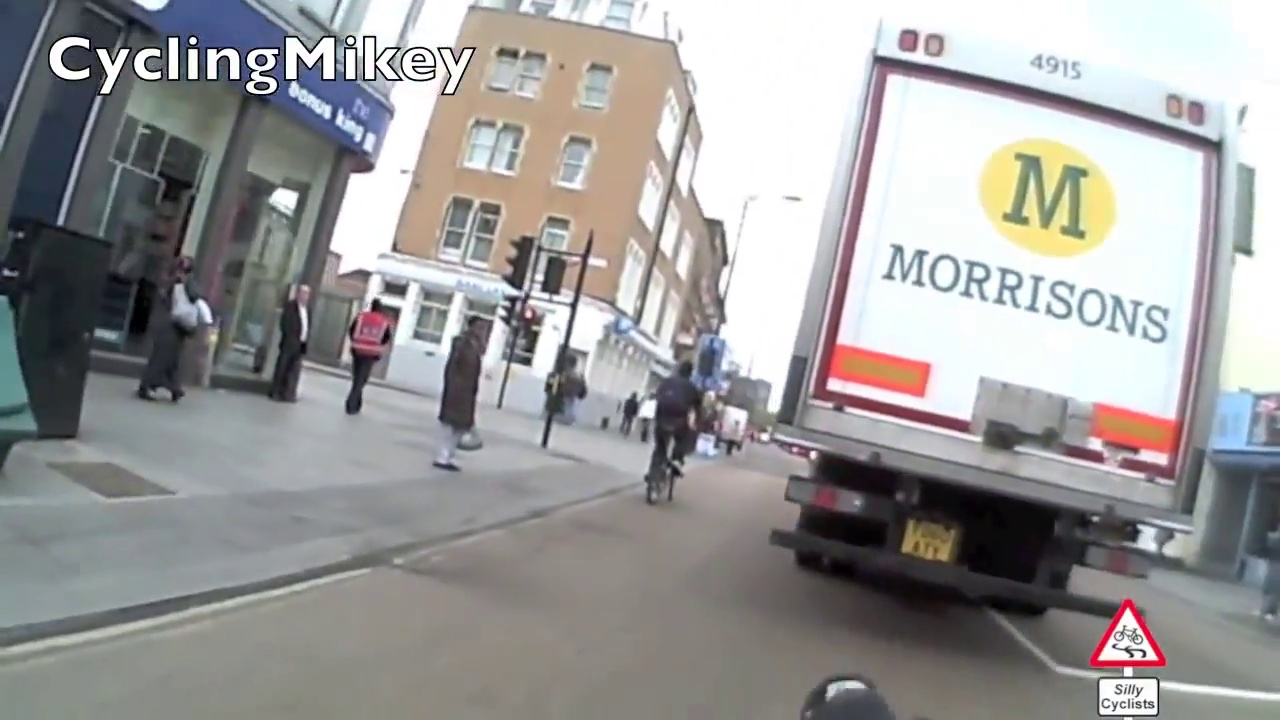cyclist_back: (641, 356, 697, 508)
